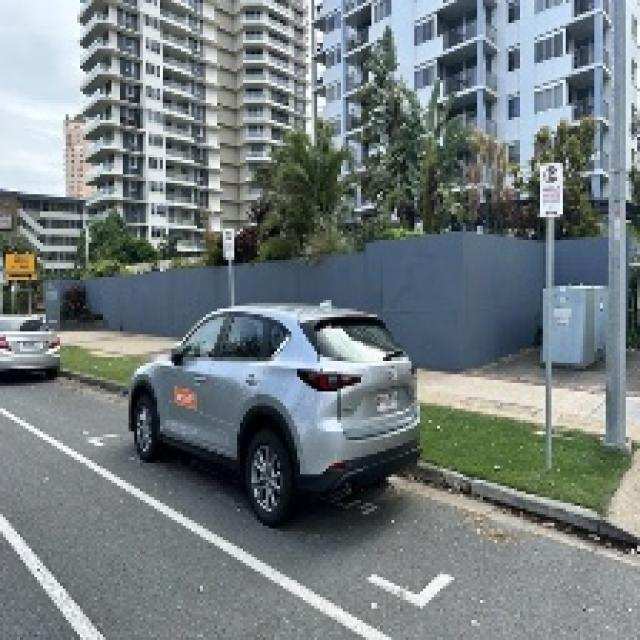car: (117, 306, 437, 499), (1, 299, 67, 377)
